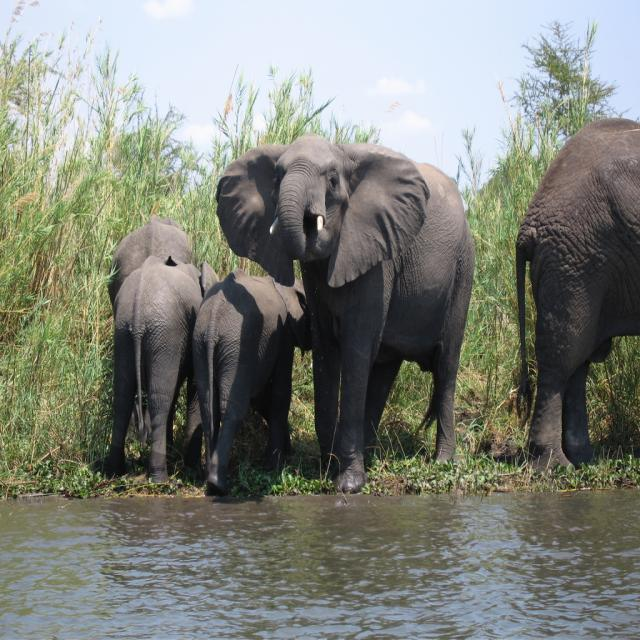Elephant: (214, 134, 476, 494), (514, 116, 640, 477), (190, 266, 312, 496), (106, 253, 219, 484)
